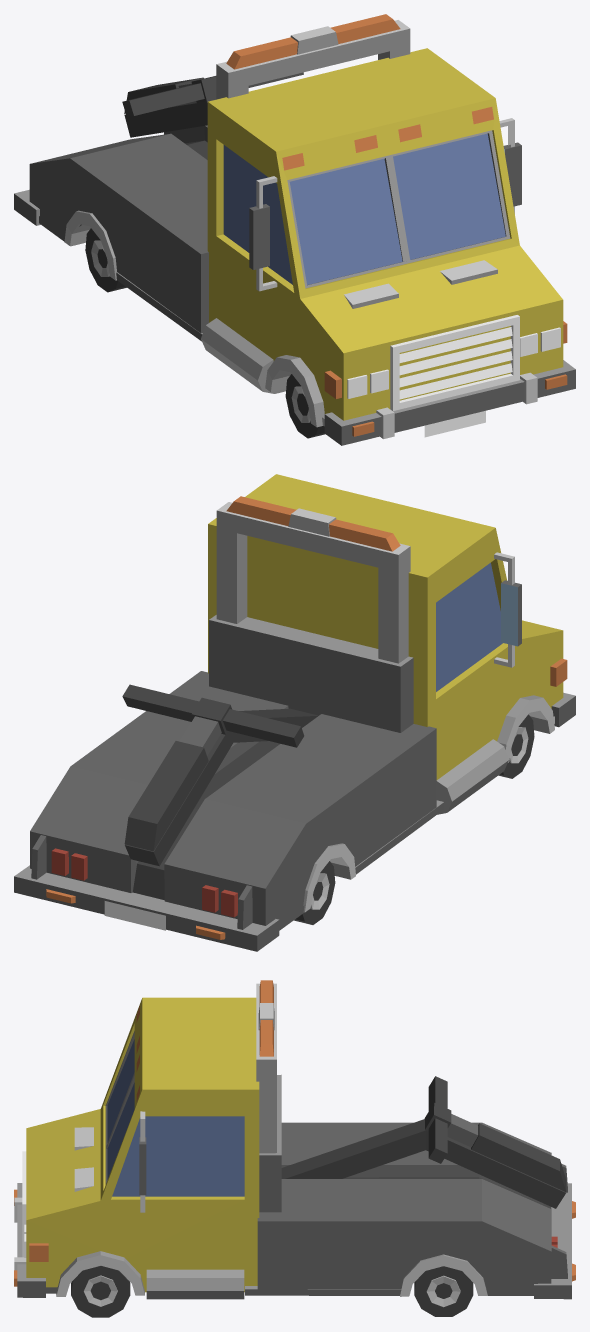
File: transport_purpose_008.glb
3 renders of one model, top to bottom at view 1: azimuth 30°, elevation 25°; view 2: azimuth 150°, elevation 25°; view 3: azimuth 270°, elevation 25°, orthographic. The views are drawn at different scales.
Parts seen in each view (by area): view 1: transport_purpose_008; view 2: transport_purpose_008; view 3: transport_purpose_008.
Boxes of the visible parts, left/top/right/bottom form: transport_purpose_008: left=14, top=14, right=575, bottom=445; transport_purpose_008: left=14, top=474, right=575, bottom=951; transport_purpose_008: left=14, top=980, right=575, bottom=1317.
Bounding box in the file's own units: 2.02 × 2.19 × 4.26.
1 material, 1 textured.
